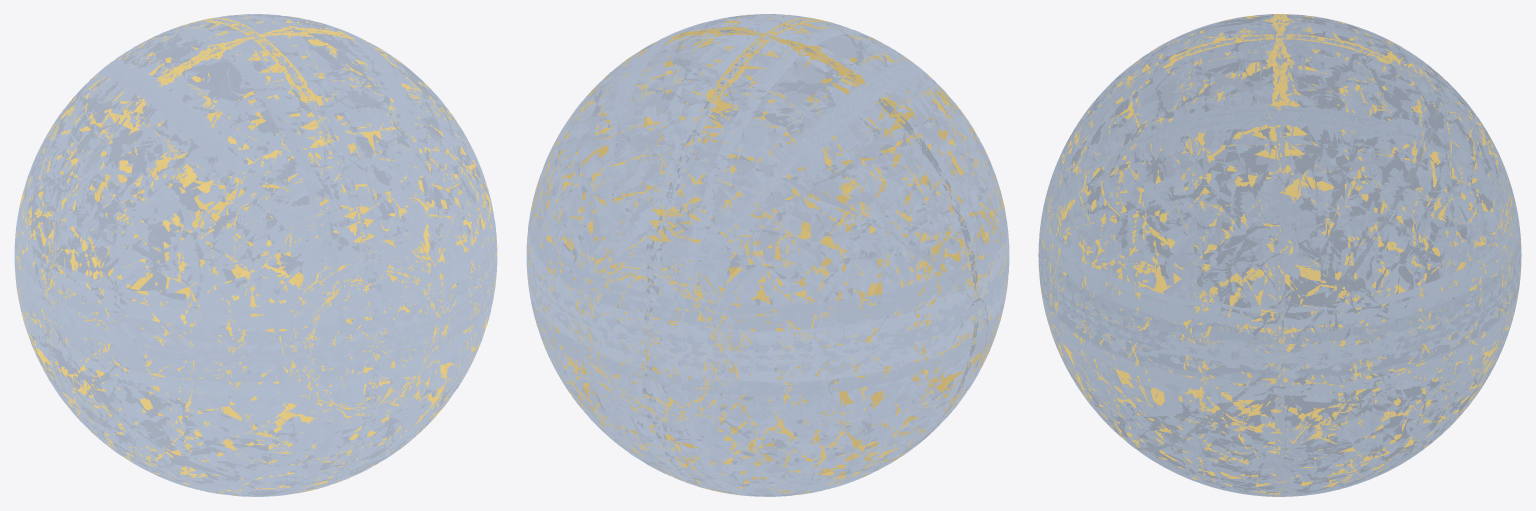
The model's file is row-2.1.glb.
3 renders of one model, left to right at view 1: azimuth 30°, elevation 25°; view 2: azimuth 150°, elevation 25°; view 3: azimuth 270°, elevation 25°, orthographic.
Visible parts, largest first — view 1: row_2_1, structure, anodes; view 2: row_2_1, structure, anodes; view 3: row_2_1, structure, anodes.
Boxes of the visible parts, x1,y1,x2,y2 form: row_2_1: [14, 14, 497, 496]; structure: [15, 14, 496, 496]; anodes: [16, 14, 496, 496]; row_2_1: [526, 14, 1009, 496]; structure: [527, 14, 1008, 496]; anodes: [527, 14, 1008, 495]; row_2_1: [1038, 14, 1521, 496]; structure: [1038, 14, 1519, 496]; anodes: [1038, 14, 1521, 496].
Size of the model in its own units: 2 by 2 by 2.
